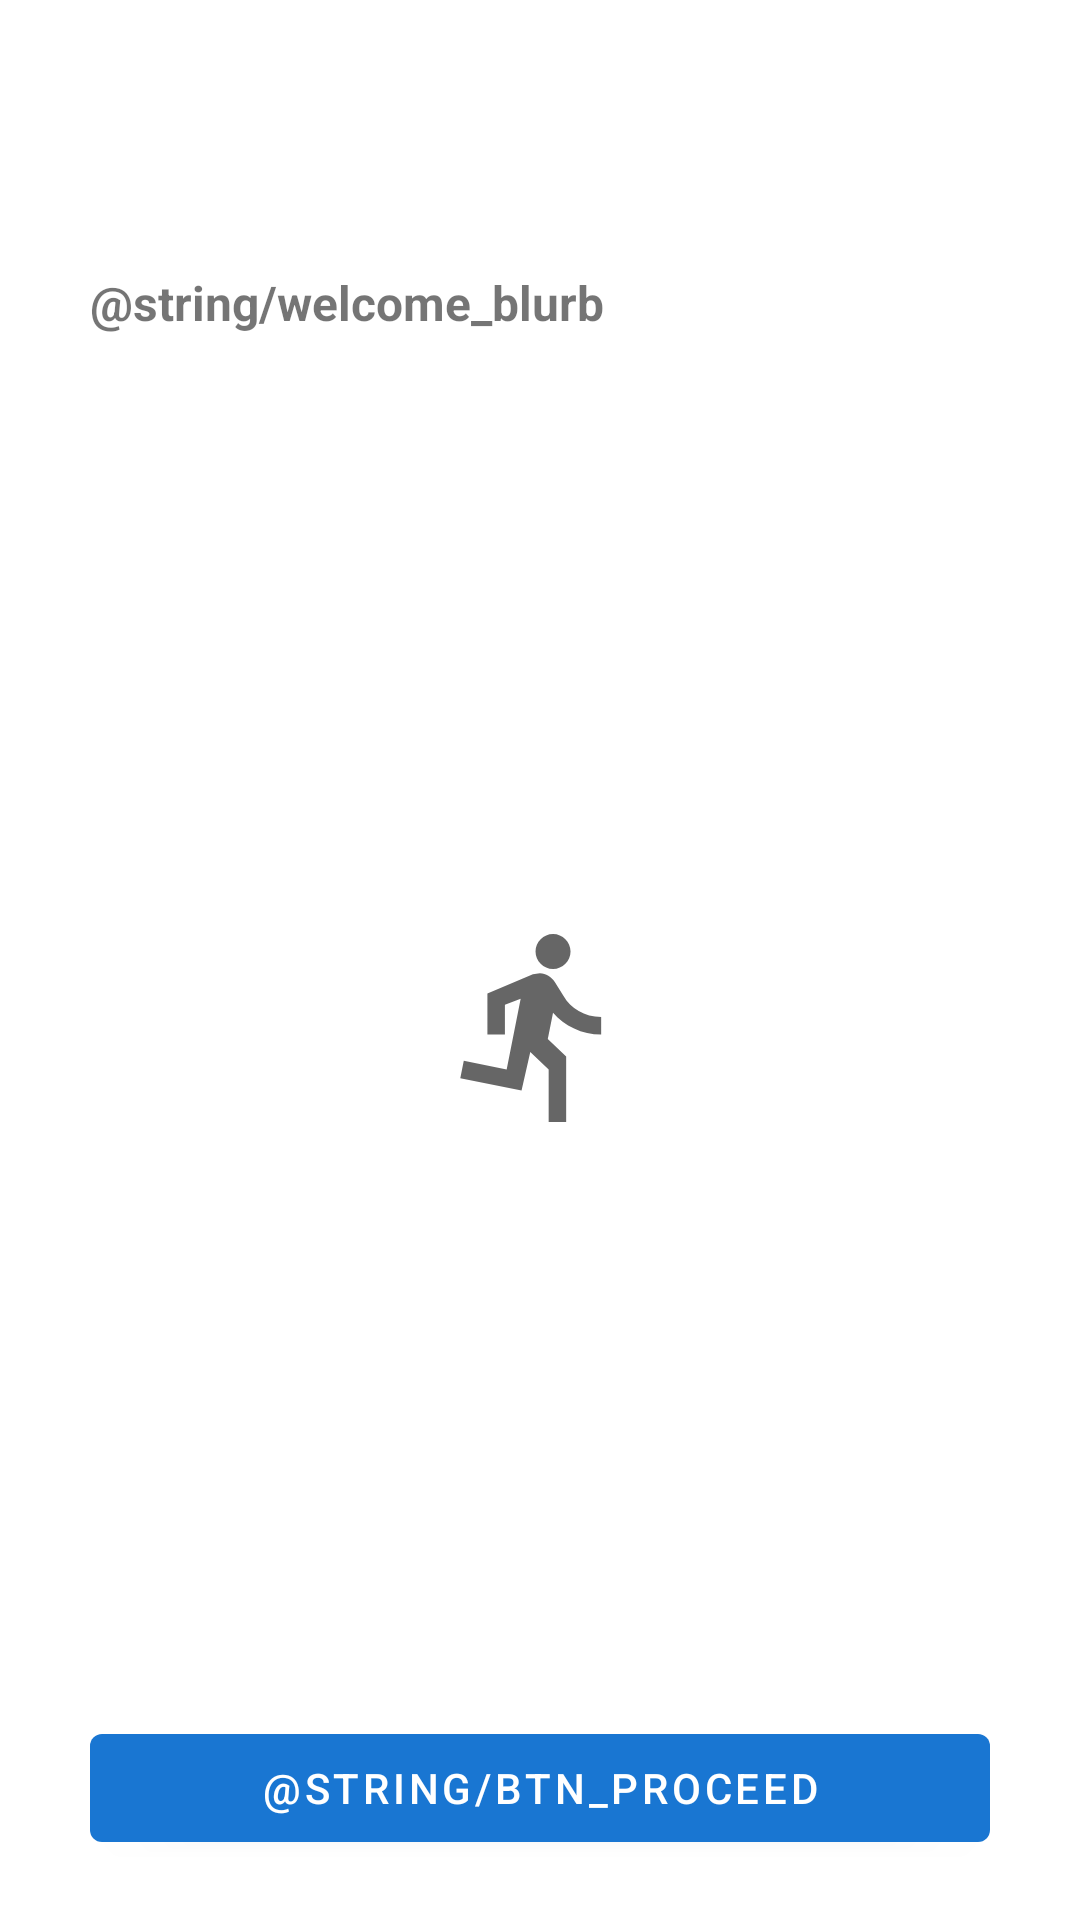

Where to tap for icons on this 1080 × 1920 app screen, as (x,y):
running stickman med: (531,1028)
